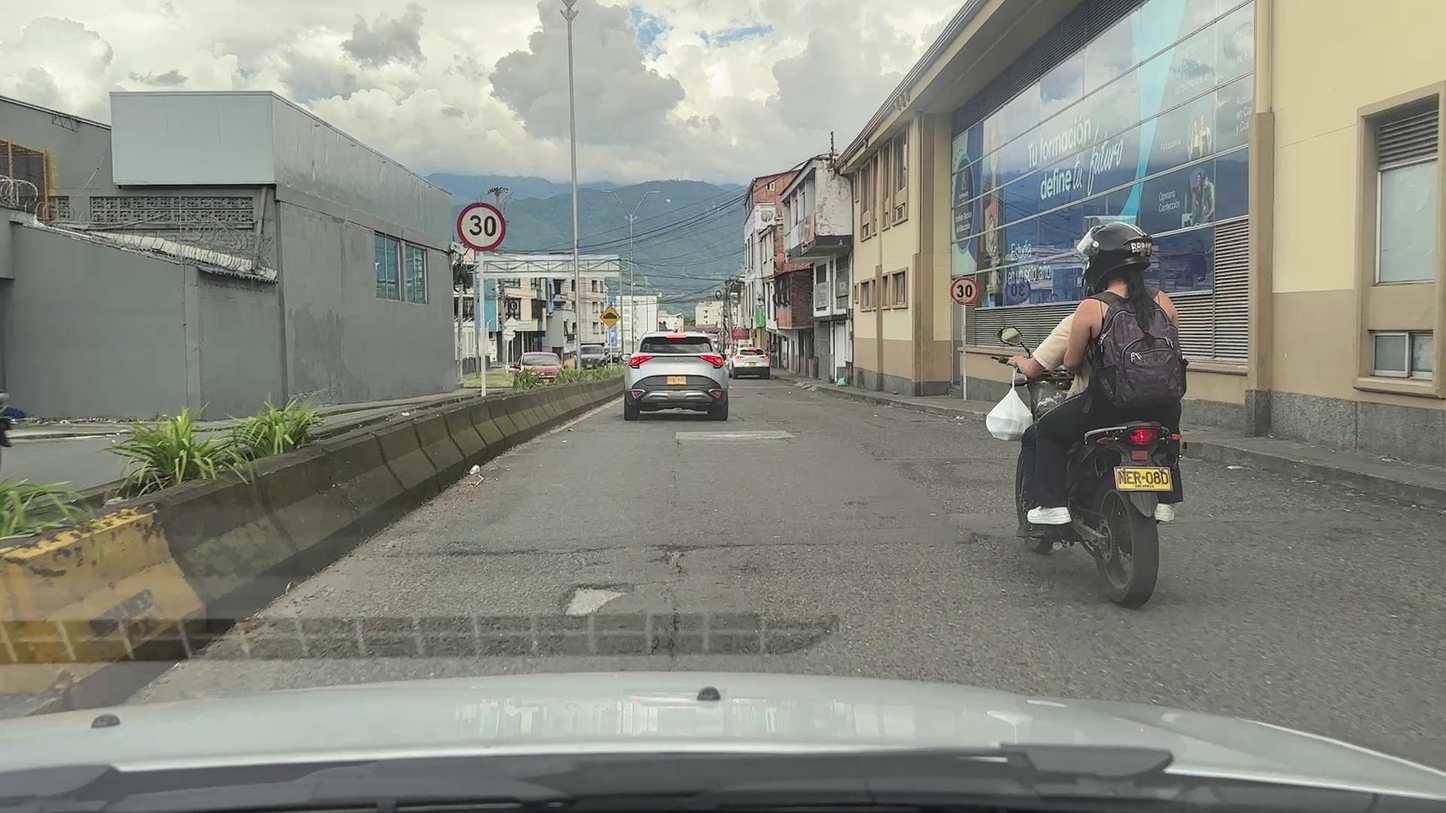bache: (650, 544, 701, 575), (564, 588, 622, 615)
grieta: (667, 606, 682, 667)
registro: (708, 433, 762, 438)
